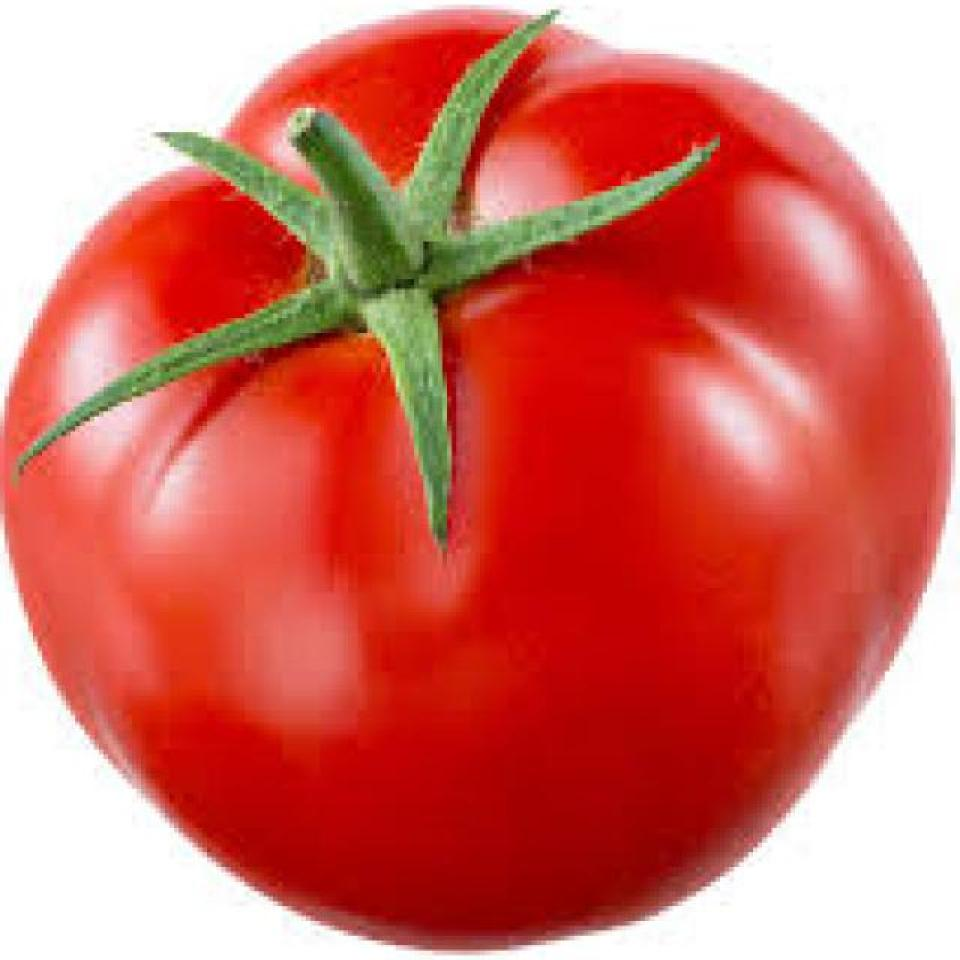Healthy: (21, 7, 960, 960)
